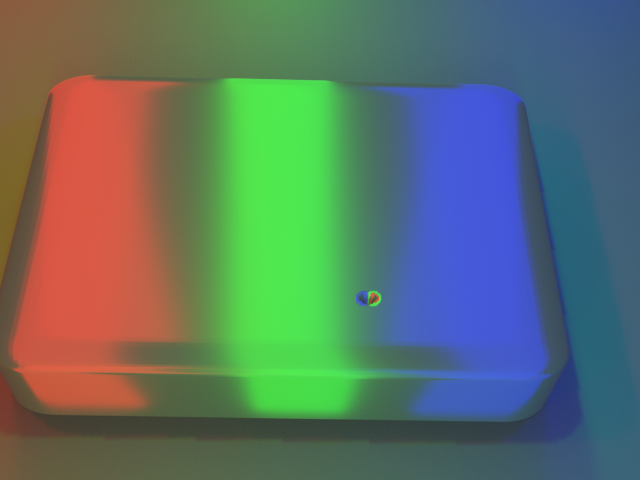dent: (348, 284, 395, 328)
